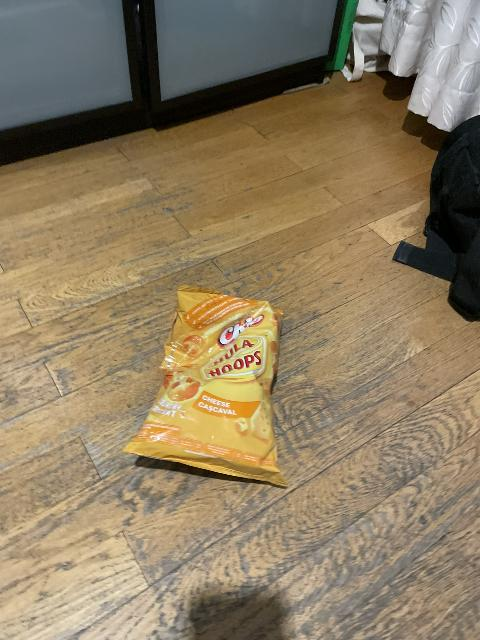Chio Hula Hoops Cheese 70g: (126, 289, 293, 486)
